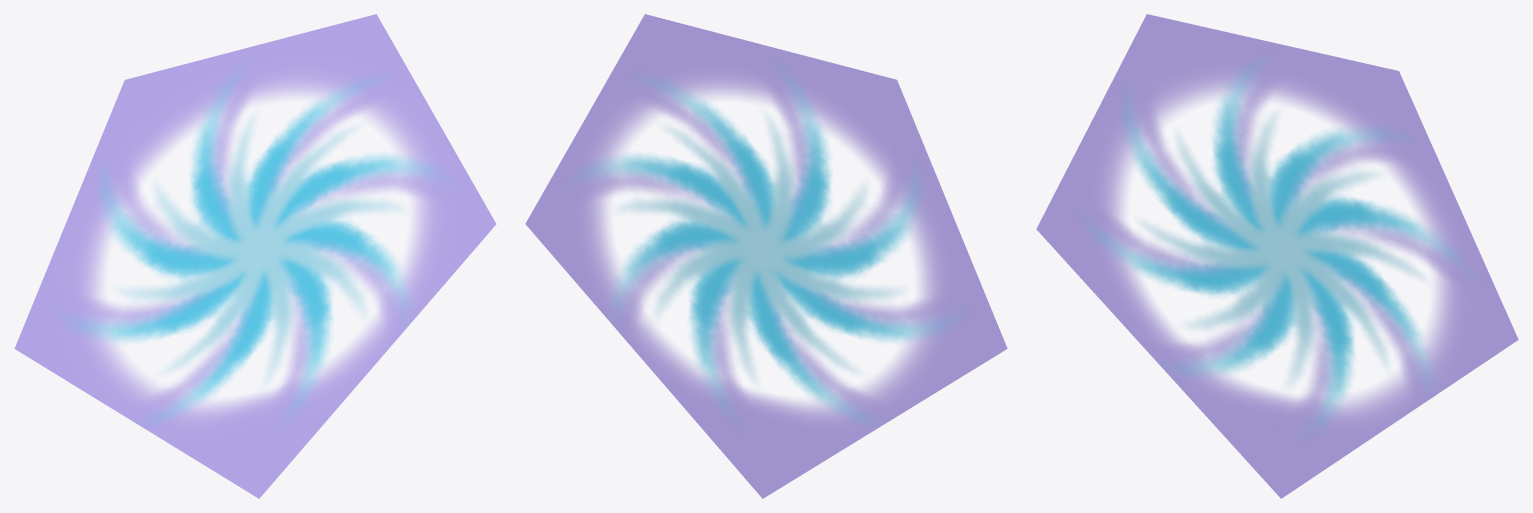
Rendered from portalAnim01.glb.
3 renders of one model, left to right at view 1: azimuth 30°, elevation 25°; view 2: azimuth 150°, elevation 25°; view 3: azimuth 330°, elevation 25°, orthographic.
Parts seen in each view (by area): view 1: portalAnim01; view 2: portalAnim01; view 3: portalAnim01.
Part boxes in pixels (left/top/right/bottom): portalAnim01: left=14, top=14, right=496, bottom=498; portalAnim01: left=525, top=14, right=1007, bottom=498; portalAnim01: left=1036, top=14, right=1518, bottom=498.
Bounding box in the file's own units: 3.65 × 3.3 × 0.00259.
Materials: 1 (1 with a texture image).
